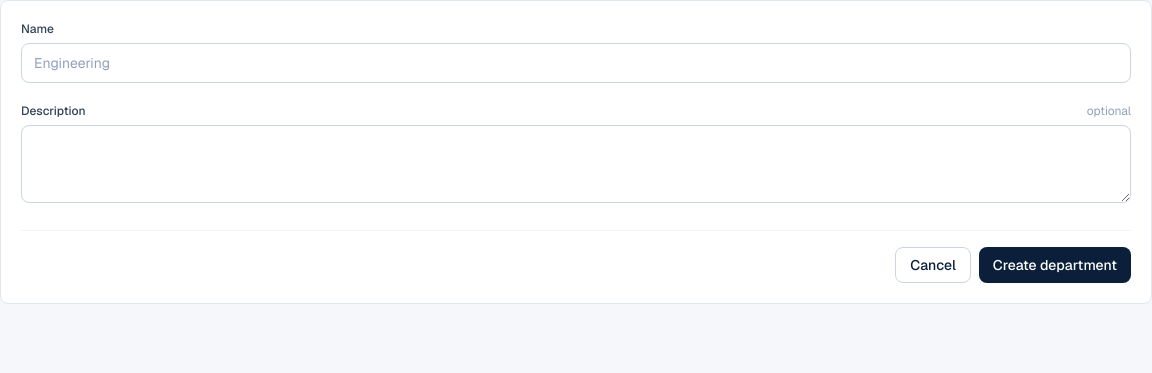
Test case: SaveDepartmentForm › requires a name
Step 1. Click the button "Create department" → (1055, 265), box [979, 247, 1131, 283]
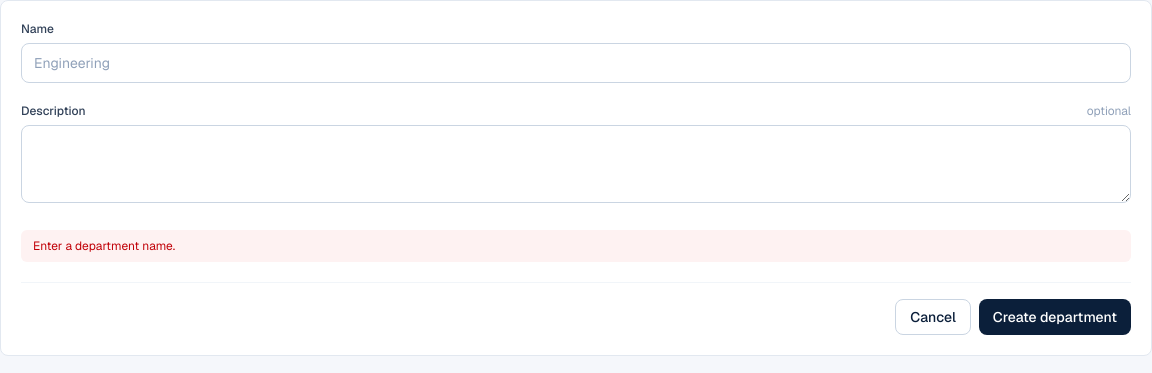
Check: the message reads "Enter a department name.", box [33, 238, 175, 254]
